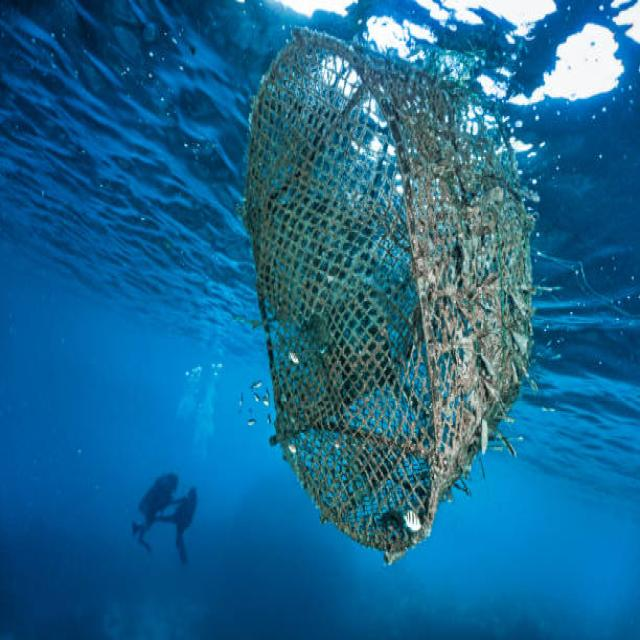trash: (228, 35, 531, 572)
